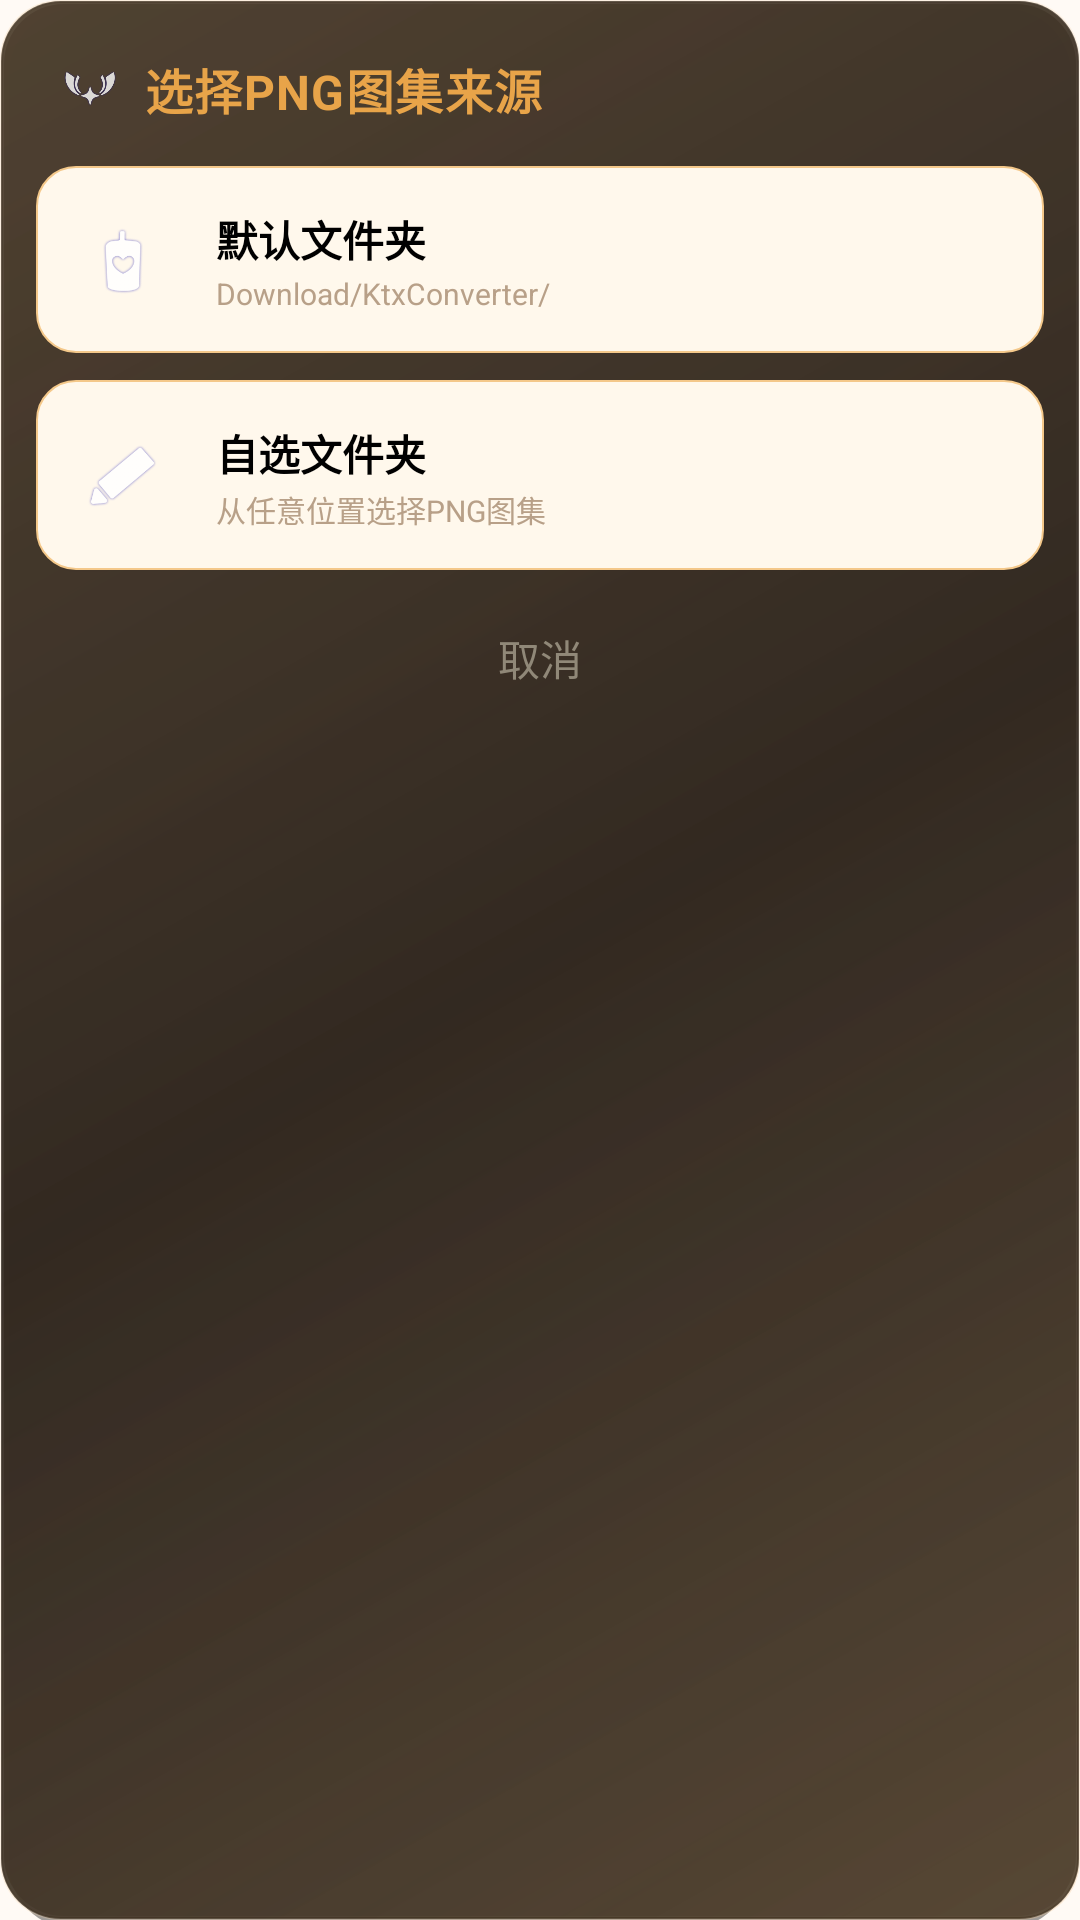

Icon click points for this 1080x1920 phone screenshot, format (x,y):
sky candle: (123,261)
sky pen: (122,476)
sky wing: (90,88)
